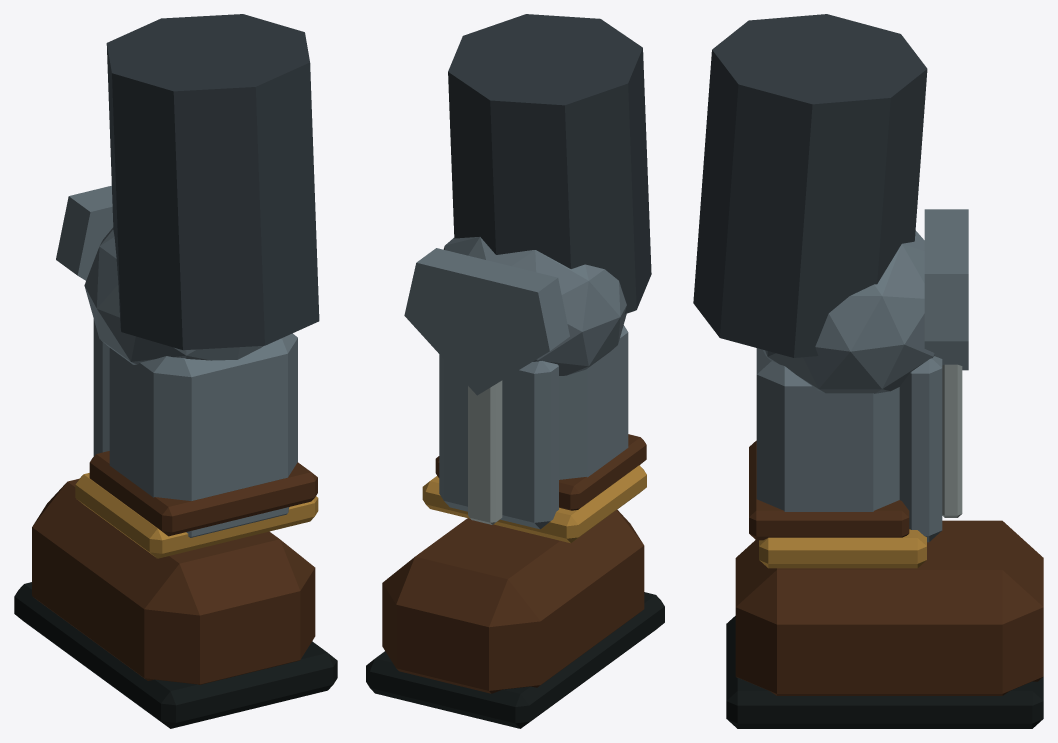
The model's file is LegLeft.glb.
3 views of the same model, side by side, from view 1: azimuth 30°, elevation 25°; view 2: azimuth 150°, elevation 25°; view 3: azimuth 270°, elevation 25° (orthographic). The views are drawn at different scales.
Visible parts, largest first — view 1: Sculpture; view 2: Sculpture; view 3: Sculpture.
Boxes of the visible parts, x1,y1,x2,y2 form: Sculpture: (14, 14, 337, 728); Sculpture: (366, 14, 664, 728); Sculpture: (693, 14, 1043, 728).
Bounding box in the file's own units: 0.24 × 0.7542 × 0.3755.
